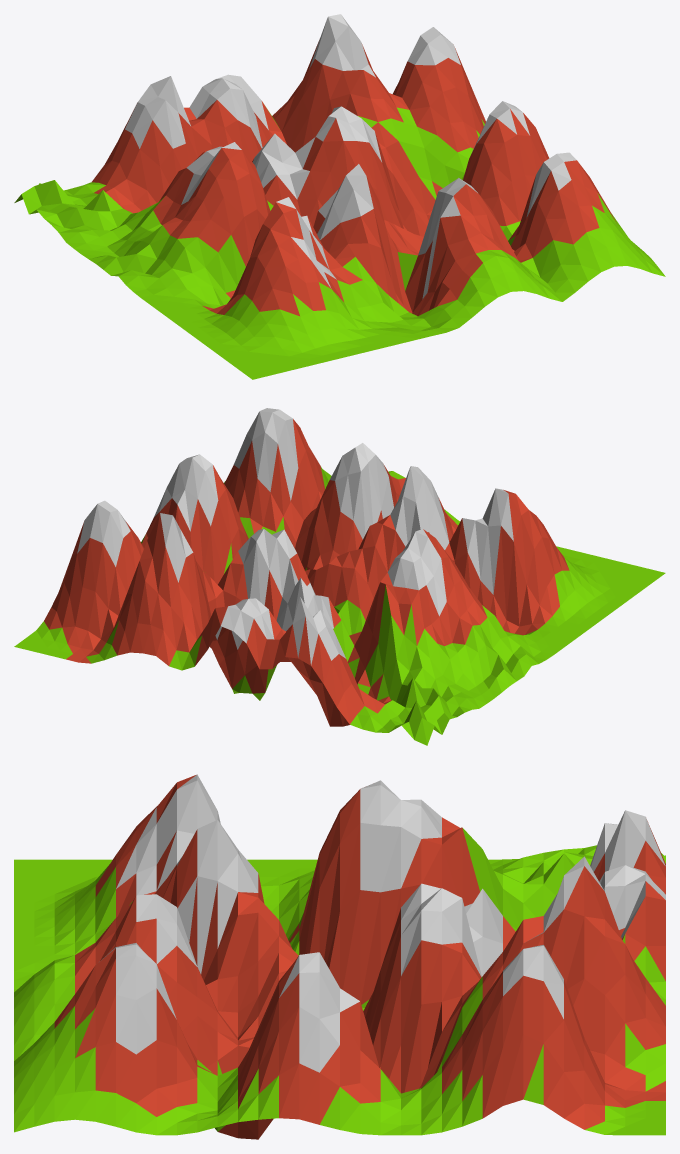
Rendered from MoutainModle.fbx.
3 views of the same model, one above another, from view 1: azimuth 30°, elevation 25°; view 2: azimuth 150°, elevation 25°; view 3: azimuth 270°, elevation 25° (orthographic). The views are drawn at different scales.
Parts seen in each view (by area): view 1: Plane; view 2: Plane; view 3: Plane.
Boxes of the visible parts, x1,y1,x2,y2 form: Plane: (14,14,665,379); Plane: (14,408,665,745); Plane: (14,774,665,1139).
Bounding box in the file's own units: 1612 × 787 × 1612.
